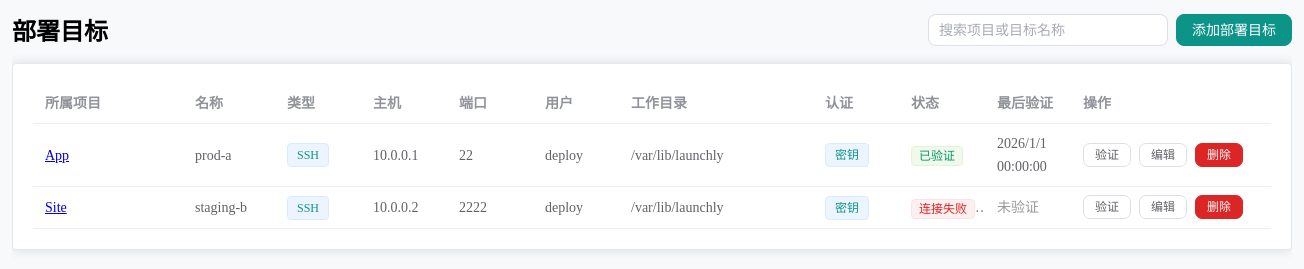
Test: DeployTargetsPage › DTP.3 search input filters rows by projectName / name / host
The width and height of the screenshot is (1304, 269).
Type "prod" into the field with placeholder "搜索项目或目标名称".
click(1048, 30); type("prod")  # box [939,14,1157,44]
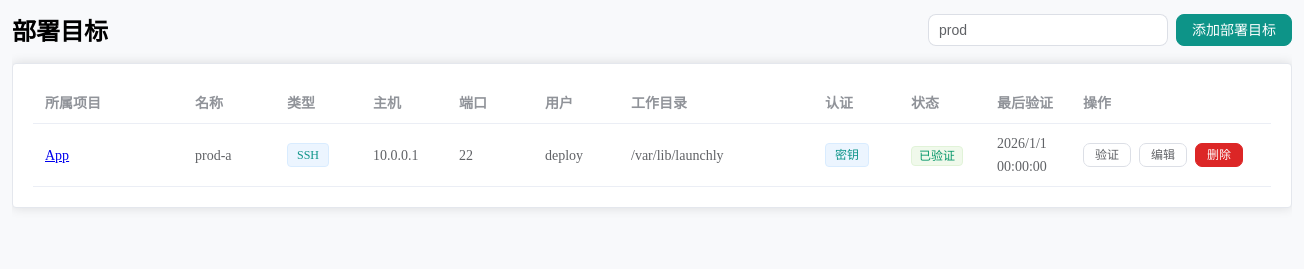
Expected: the text "prod-a" is shown, [195,148,232,162]
Result: the text "staging-b" is gone
Search by host: only the matching host's row remains.
Replace the text in the field with placeholder "搜索项目或目标名称" with "10.0.0.2" at (1048, 30), box [939,14,1157,44]
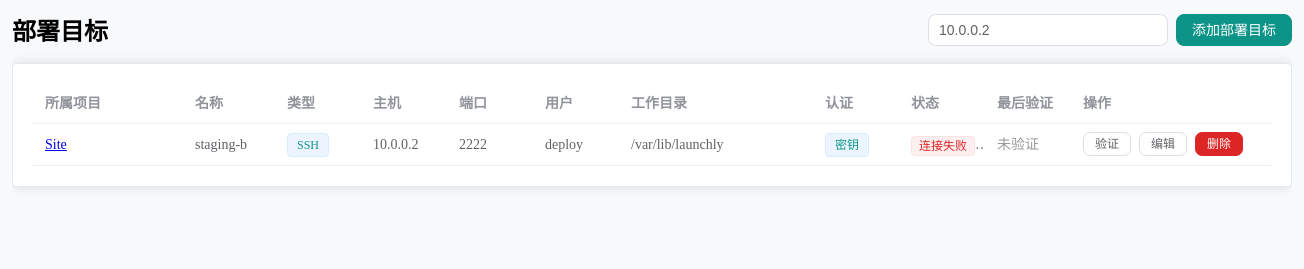
Result: the text "staging-b" is shown at [195,137,247,152]
Result: the text "prod-a" is gone
Empty search restores all rows.
Clear the field with placeholder "搜索项目或目标名称" at (1048, 30), box [939,14,1157,44]
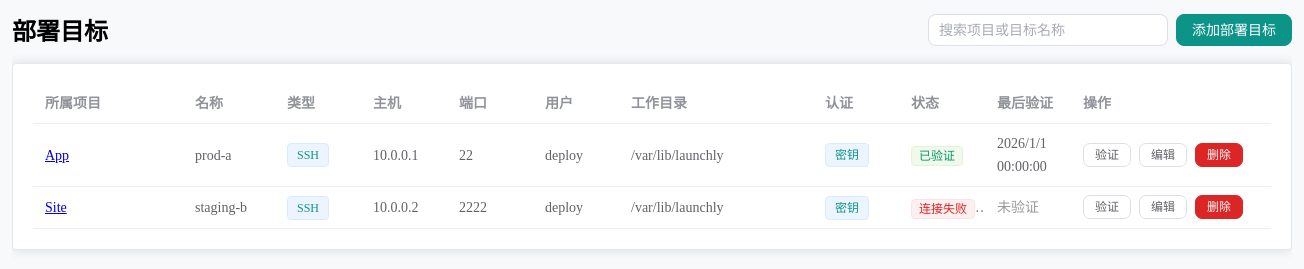
Result: the text "staging-b" is shown at [195,200,247,215]
Result: the text "prod-a" is shown at [195,148,232,162]
